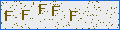F: (5, 11, 13, 21), (22, 10, 30, 20), (39, 4, 47, 14), (52, 6, 60, 16), (70, 11, 78, 21)
